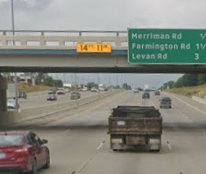1: (98, 43, 104, 53), (78, 43, 83, 52), (95, 43, 100, 52)
4: (82, 42, 88, 53)
overheadsign: (76, 43, 112, 52)
